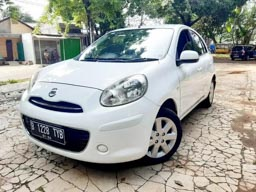plat: (26, 120, 65, 148)
